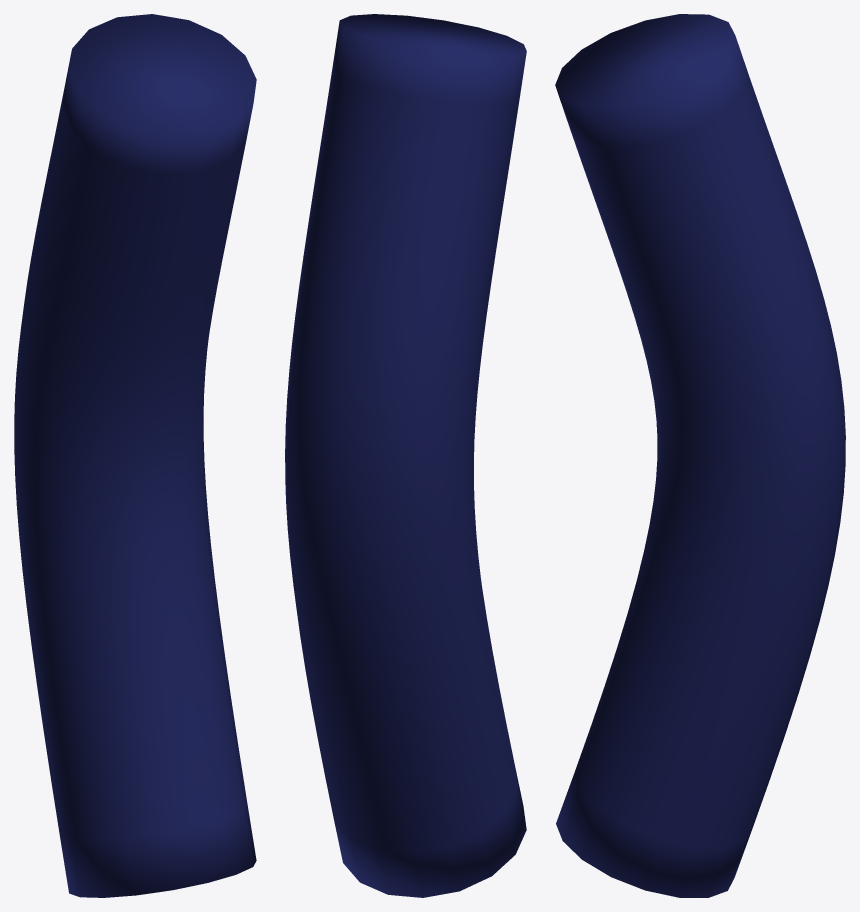
Rendered from Volume2.fbx.
The picture shows the model from 3 angles, left to right: view 1: azimuth 30°, elevation 25°; view 2: azimuth 150°, elevation 25°; view 3: azimuth 270°, elevation 25°; orthographic projection.
Parts seen in each view (by area): view 1: Volume2; view 2: Volume2; view 3: Volume2.
Boxes of the visible parts, left/top/right/bottom form: Volume2: left=14, top=14, right=256, bottom=897; Volume2: left=285, top=14, right=526, bottom=897; Volume2: left=555, top=14, right=845, bottom=897.
Bounding box in the file's own units: 32.2 × 159 × 49.68.
